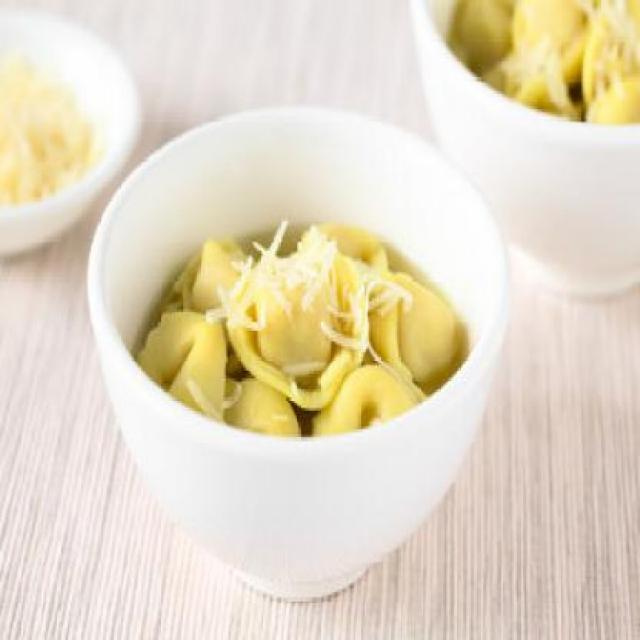Tortellini in broth: (142, 206, 464, 429)
